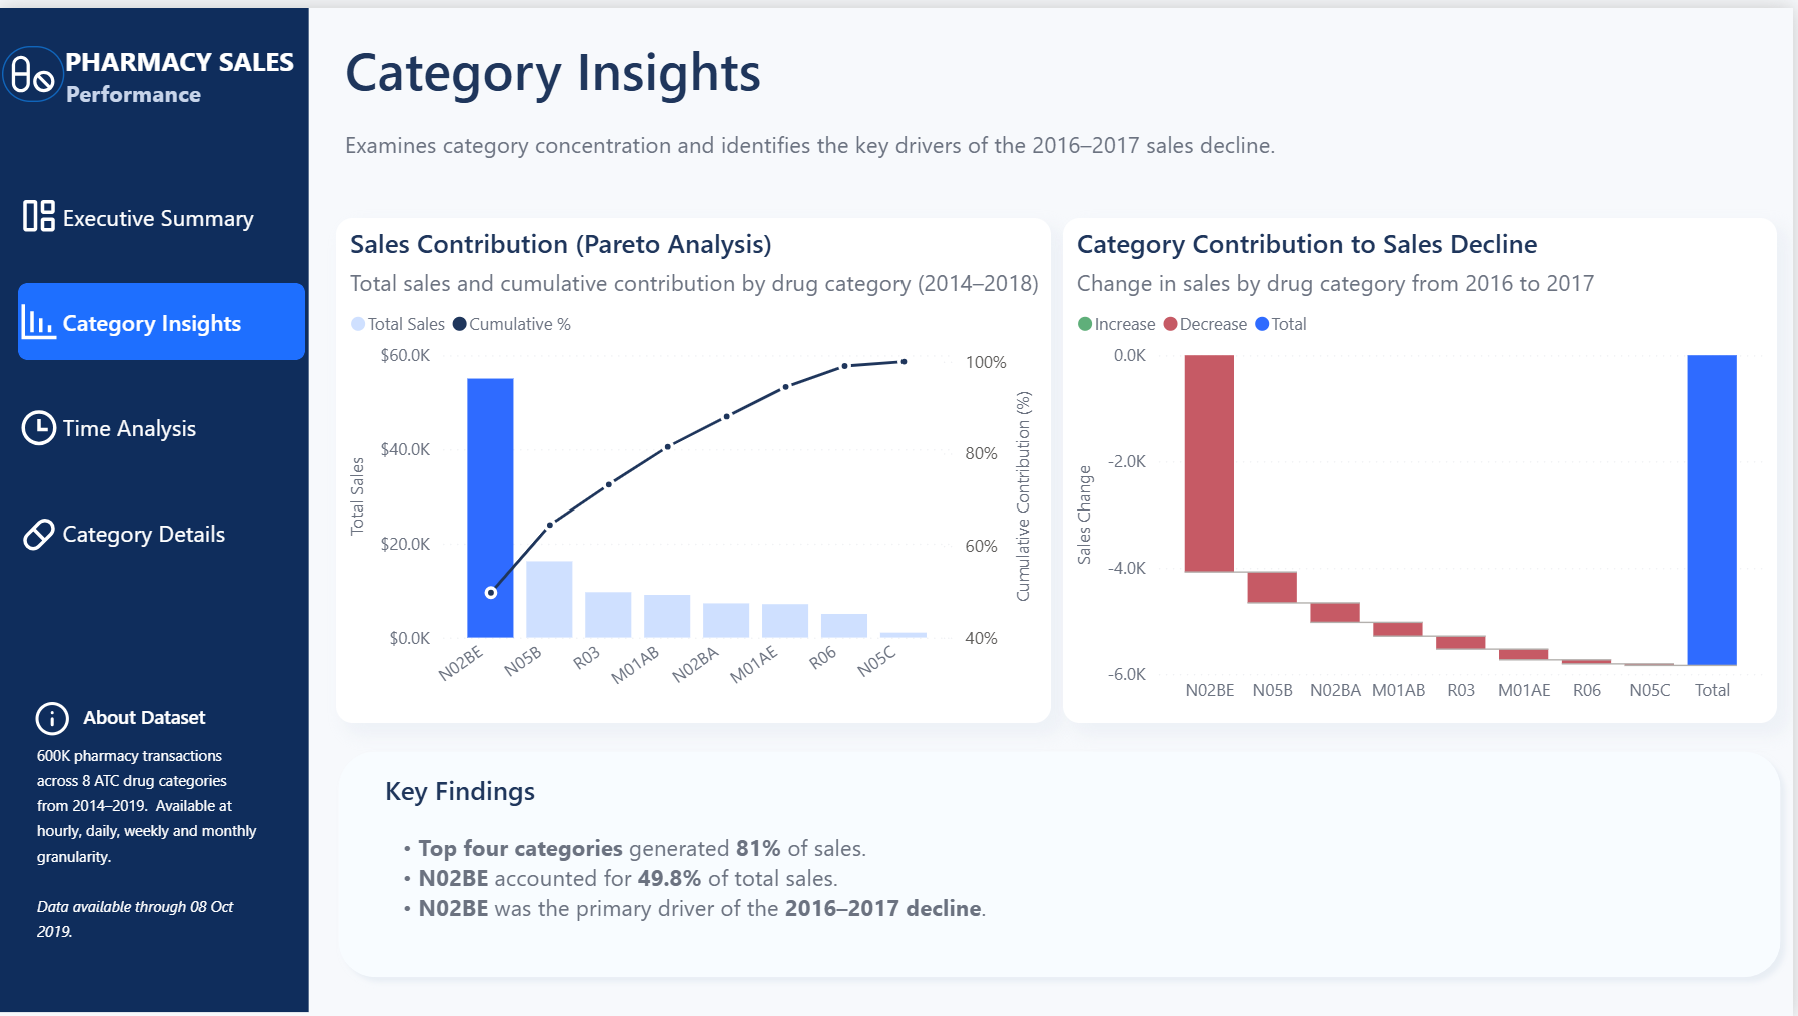

The dashboard page shown, as its layout file describes it:
{"tool":"powerbi","page":{"name":"Category Insights","canvas":[1280,720],"ordinal":1},"visuals":[{"type":"shape","box":[0,0,220.5,716.6],"z":0},{"type":"textbox","box":[241.9,12.2,762.5,134.7],"z":1000},{"type":"group","id":"g1","title":"Group 1","box":[232.7,522.1,1047.3,189.9],"z":2000},{"type":"shape","box":[232.7,522.1,1047.3,179.1],"z":2500,"group":"g1"},{"type":"actionButton","box":[0,0,100,40],"z":3000},{"type":"textbox","box":[269.8,540.5,1010.1,171.5],"z":3000,"group":"g1"},{"type":"textbox","box":[15.3,19.9,228.1,72],"z":4000},{"type":"pageNavigator","box":[12.2,121,205.2,280.2],"z":5000},{"type":"image","box":[12.2,284.3,30,30.6],"z":6000},{"type":"image","box":[12.2,208.7,30,30.6],"z":7000},{"type":"image","box":[12.2,359.8,30,30.6],"z":8000},{"type":"image","box":[12.2,133.2,30,30.6],"z":9000},{"type":"image","box":[1.5,27.6,44.4,39.8],"z":10000},{"type":"textbox","box":[21.4,491.5,188.3,33.7],"z":11000},{"type":"image","box":[24.5,491.5,26,30.6],"z":12000},{"type":"textbox","box":[21.4,480.8,170,197.5],"z":13000},{"type":"lineClusteredColumnComboChart","title":"Sales Contribution (Pareto Analysis)","fields":{"Y":["_Measures.Total Sales"],"Category":["Fact Sales Monthly.Drug Category"],"Y2":["_Measures.Cumulative %"]},"box":[240.2,149.5,510,360],"z":14000},{"type":"waterfallChart","title":"Category Contribution to Sales Decline","fields":{"Category":["Fact Sales Monthly.Drug Category"],"Y":["_Measures.Category YoY Change (2016-2017)"]},"box":[759.2,149.5,510,360],"z":15000}]}

Visuals, with their boxes on the page's 1280x720 design canvas (x1, y1, x2, y2). These are canvas units, not pixel positions in the 1798x1016 screenshot, which may show the page scaled, cropped or inside an application window:
shape: left=0, top=0, right=220, bottom=717
textbox: left=242, top=12, right=1004, bottom=147
"Group 1" group: left=233, top=522, right=1280, bottom=712
shape: left=233, top=522, right=1280, bottom=701
actionButton: left=0, top=0, right=100, bottom=40
textbox: left=270, top=540, right=1280, bottom=712
textbox: left=15, top=20, right=243, bottom=92
pageNavigator: left=12, top=121, right=217, bottom=401
image: left=12, top=284, right=42, bottom=315
image: left=12, top=209, right=42, bottom=239
image: left=12, top=360, right=42, bottom=390
image: left=12, top=133, right=42, bottom=164
image: left=2, top=28, right=46, bottom=67
textbox: left=21, top=492, right=210, bottom=525
image: left=24, top=492, right=50, bottom=522
textbox: left=21, top=481, right=191, bottom=678
"Sales Contribution (Pareto Analysis)" lineClusteredColumnComboChart: left=240, top=150, right=750, bottom=510
"Category Contribution to Sales Decline" waterfallChart: left=759, top=150, right=1269, bottom=510
